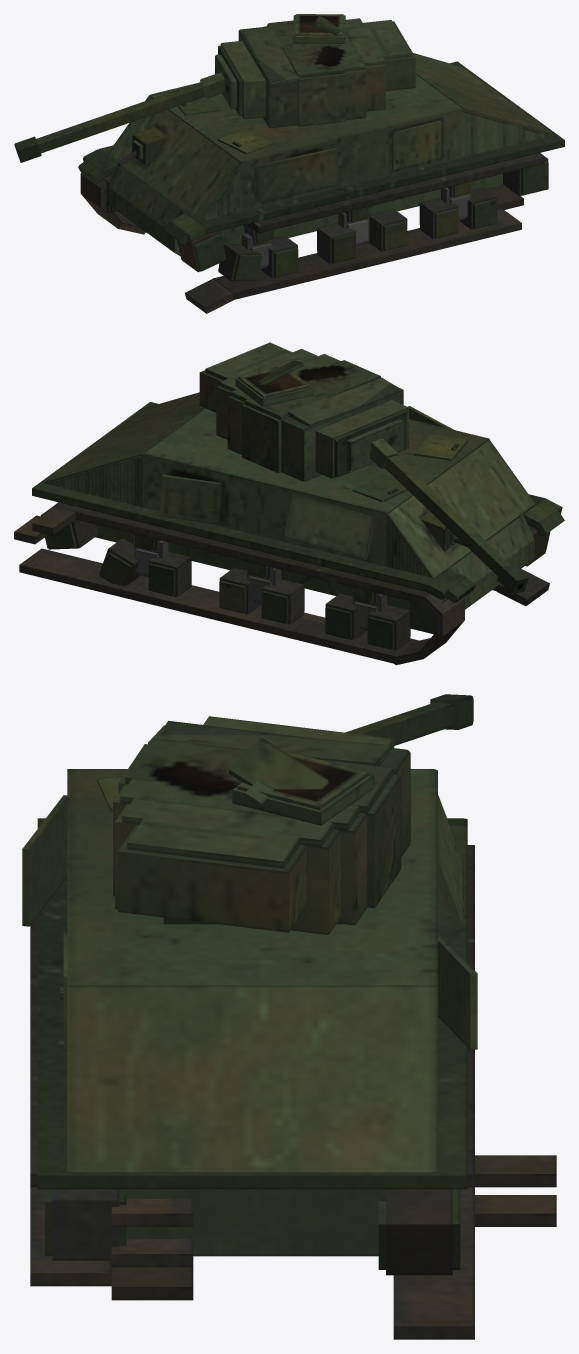
The model's file is wreckage_military2.obj.
3 renders of one model, top to bottom at view 1: azimuth 30°, elevation 25°; view 2: azimuth 150°, elevation 25°; view 3: azimuth 270°, elevation 25°, orthographic. The views are drawn at different scales.
Parts seen in each view (by area): view 1: ny, nz, nx, oX, nA, oW, qF, oN, oH, or, oI, oJ (+40 smaller); view 2: ny, nz, pe, nx, pd, nA, qH, oJ, oN, qI, or, oI (+45 smaller); view 3: nA, ny, nx, or, oG, pe, pz, oF, oI, pA, oE, oD (+23 smaller).
Part boxes in pixels (box(x1,y1,x2,y2)): ny: box(149, 74, 462, 211); nz: box(107, 95, 241, 221); nx: box(99, 61, 564, 234); oX: box(213, 208, 521, 299); nA: box(413, 53, 554, 136); oW: box(247, 153, 544, 233); qF: box(254, 148, 340, 202); oN: box(36, 82, 205, 153); oH: box(267, 25, 345, 126); or: box(220, 174, 503, 245); oI: box(267, 20, 344, 77); oJ: box(238, 27, 297, 128); ny: box(144, 408, 489, 566); nz: box(386, 440, 534, 578); pe: box(19, 548, 418, 663); nx: box(32, 402, 544, 591); pd: box(55, 502, 429, 603); nA: box(43, 392, 205, 484); qH: box(284, 494, 373, 559); oJ: box(281, 384, 403, 481); oN: box(384, 455, 510, 576); qI: box(159, 474, 222, 524); or: box(95, 524, 409, 610); oI: box(244, 360, 380, 419); nA: box(67, 985, 437, 1172); ny: box(67, 769, 437, 987); nx: box(37, 825, 467, 1189); or: box(119, 1189, 385, 1256); oG: box(118, 824, 307, 932); pe: box(393, 1187, 474, 1339); pz: box(386, 1189, 452, 1275); oF: box(127, 815, 300, 868); oI: box(125, 738, 394, 813); pA: box(52, 1189, 119, 1260); oE: box(122, 798, 333, 846); oD: box(115, 804, 341, 934).
Bounding box in the file's own units: 8.88 × 3.89 × 4.5.
1 material, 1 textured.
